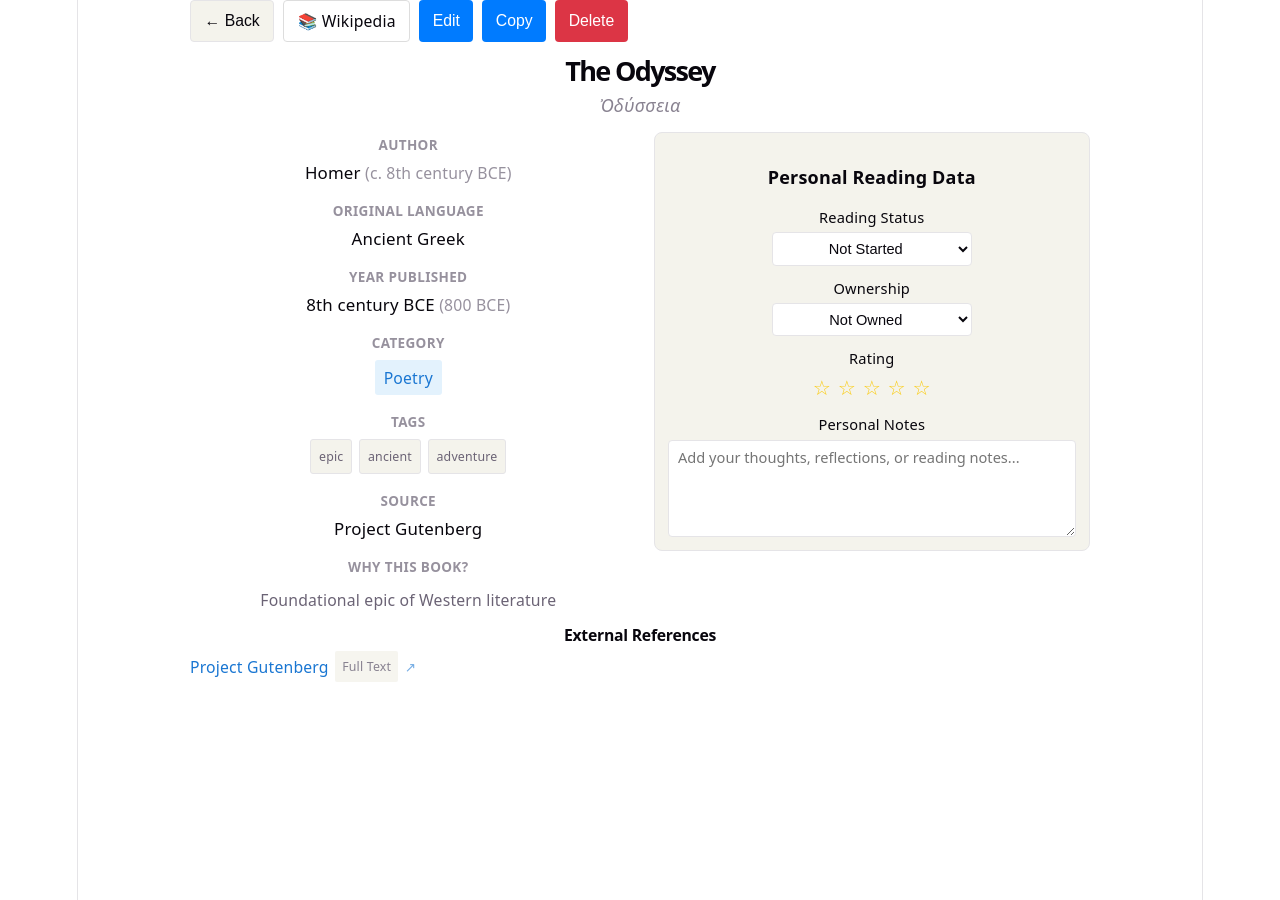
Test: BookDetailPage › Delete Functionality › should open confirmation dialog when delete button is clicked
The image size is (1280, 900).
Expected: the heading "The Odyssey" is shown, x1=565 y1=52 x2=715 y2=89
Click the button "Delete": x=591, y=21 x1=555 y1=0 x2=628 y2=42
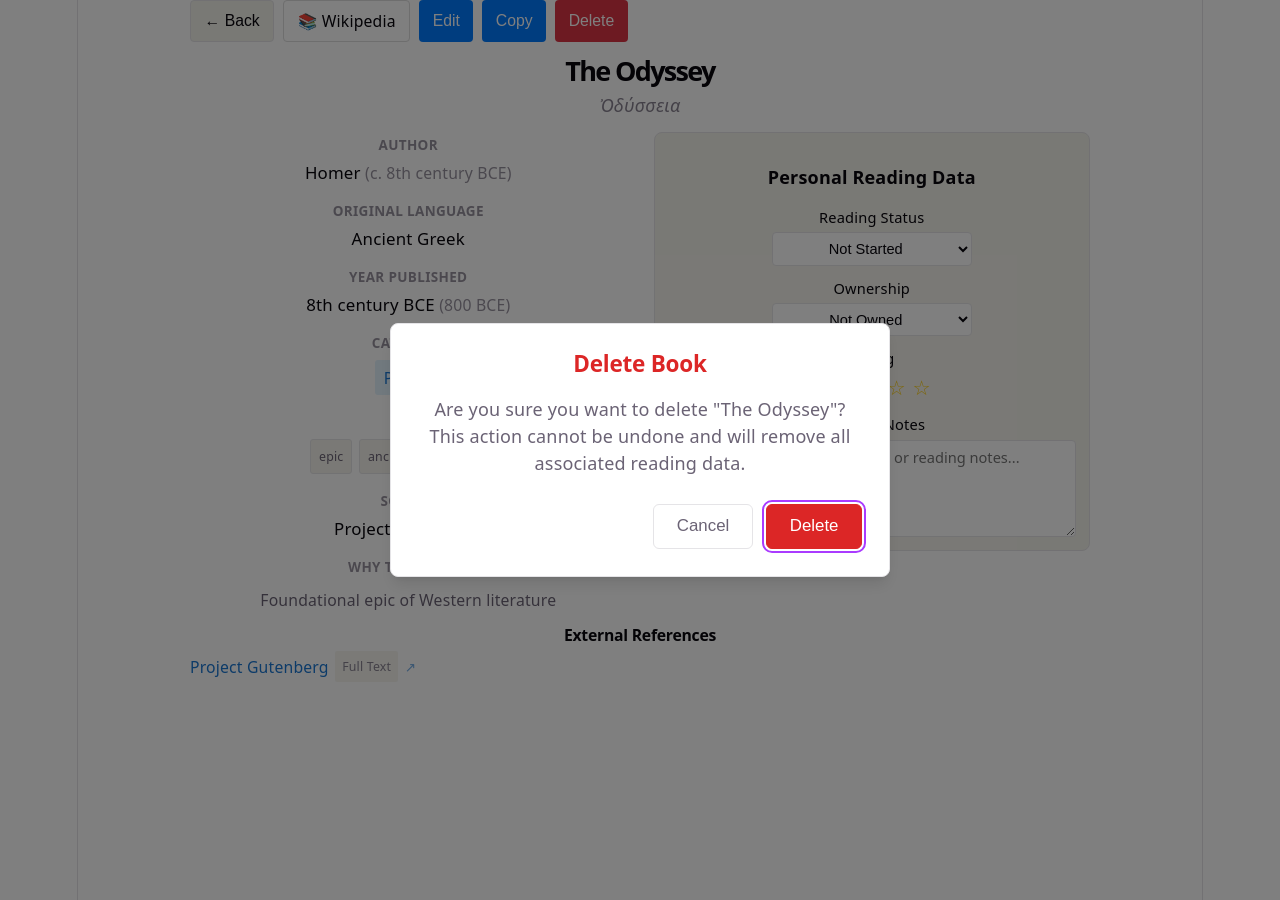
Now the heading "Delete Book" is shown, box x1=573 y1=348 x2=707 y2=380
Now the text "Are you sure you want to delete" is shown, box x1=430 y1=397 x2=851 y2=475
